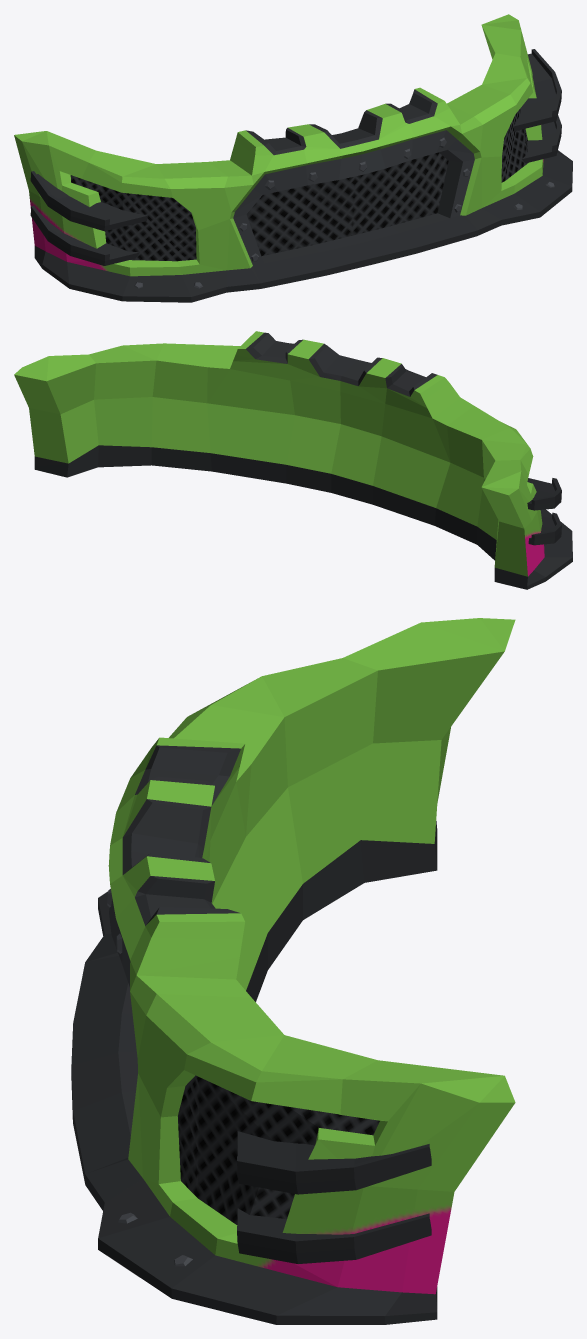
The model's file is SM_Veh_Touring_01_Front_Bumper_03.fbx.
The picture shows the model from 3 angles, top to bottom: view 1: azimuth 30°, elevation 25°; view 2: azimuth 150°, elevation 25°; view 3: azimuth 270°, elevation 25°; orthographic projection. The views are drawn at different scales.
Visible parts, largest first — view 1: SM_Veh_Touring_01_Front_Bumper_03; view 2: SM_Veh_Touring_01_Front_Bumper_03; view 3: SM_Veh_Touring_01_Front_Bumper_03.
Boxes of the visible parts, x1,y1,x2,y2 form: SM_Veh_Touring_01_Front_Bumper_03: (14,14,572,302); SM_Veh_Touring_01_Front_Bumper_03: (14,331,572,589); SM_Veh_Touring_01_Front_Bumper_03: (71,618,515,1324).
Size of the model in its own units: 217 by 51.65 by 82.22.
